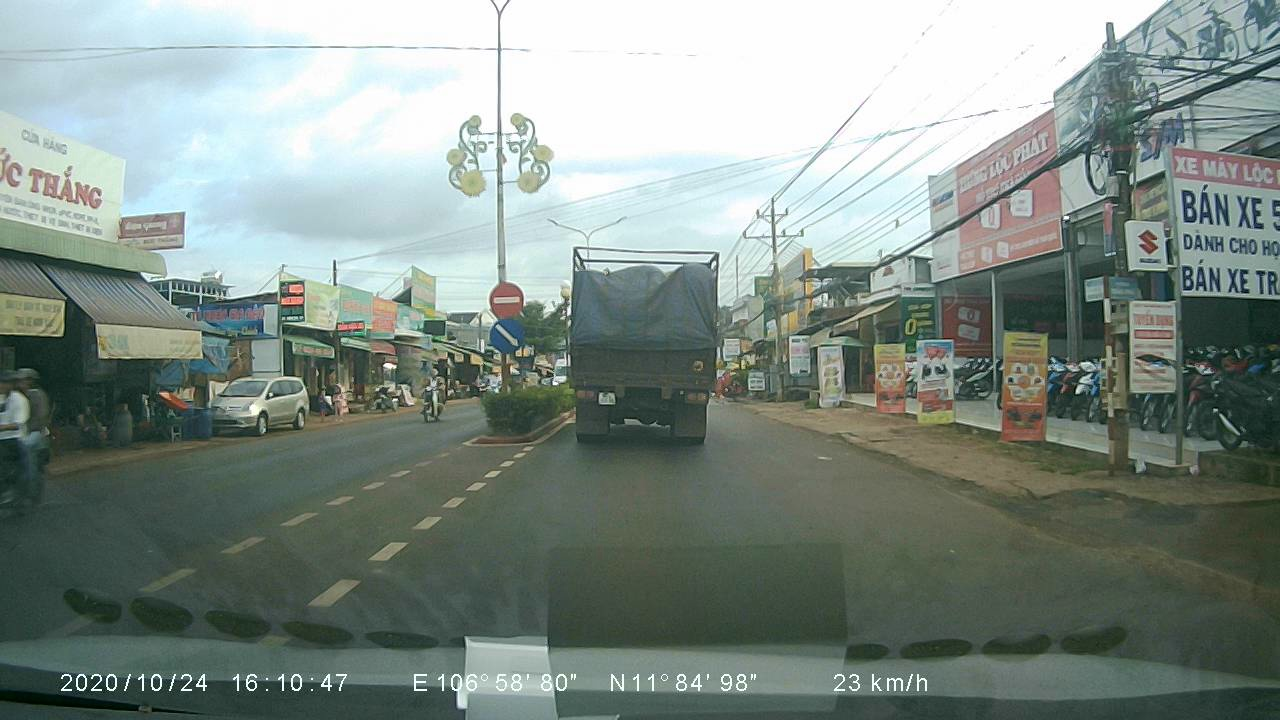Cam di nguoc chieu: (486, 280, 526, 317)
Huong di phai re phai: (488, 318, 524, 356)
